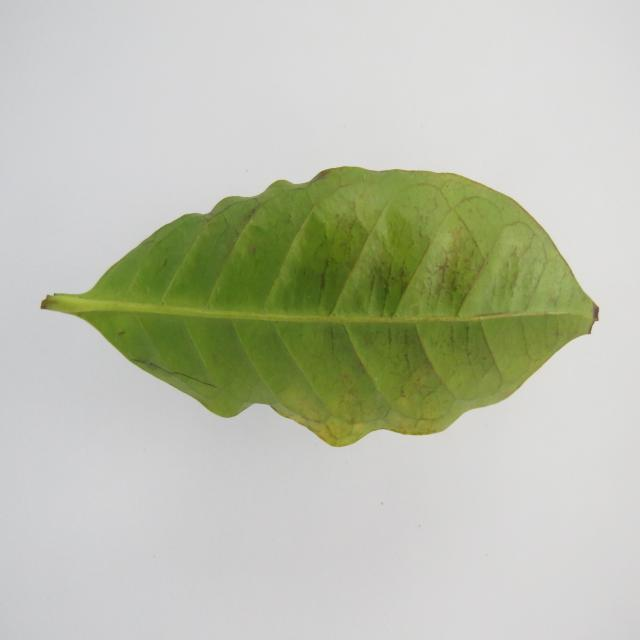DeficienciaNutricional-Calcio: (42, 167, 598, 445)
